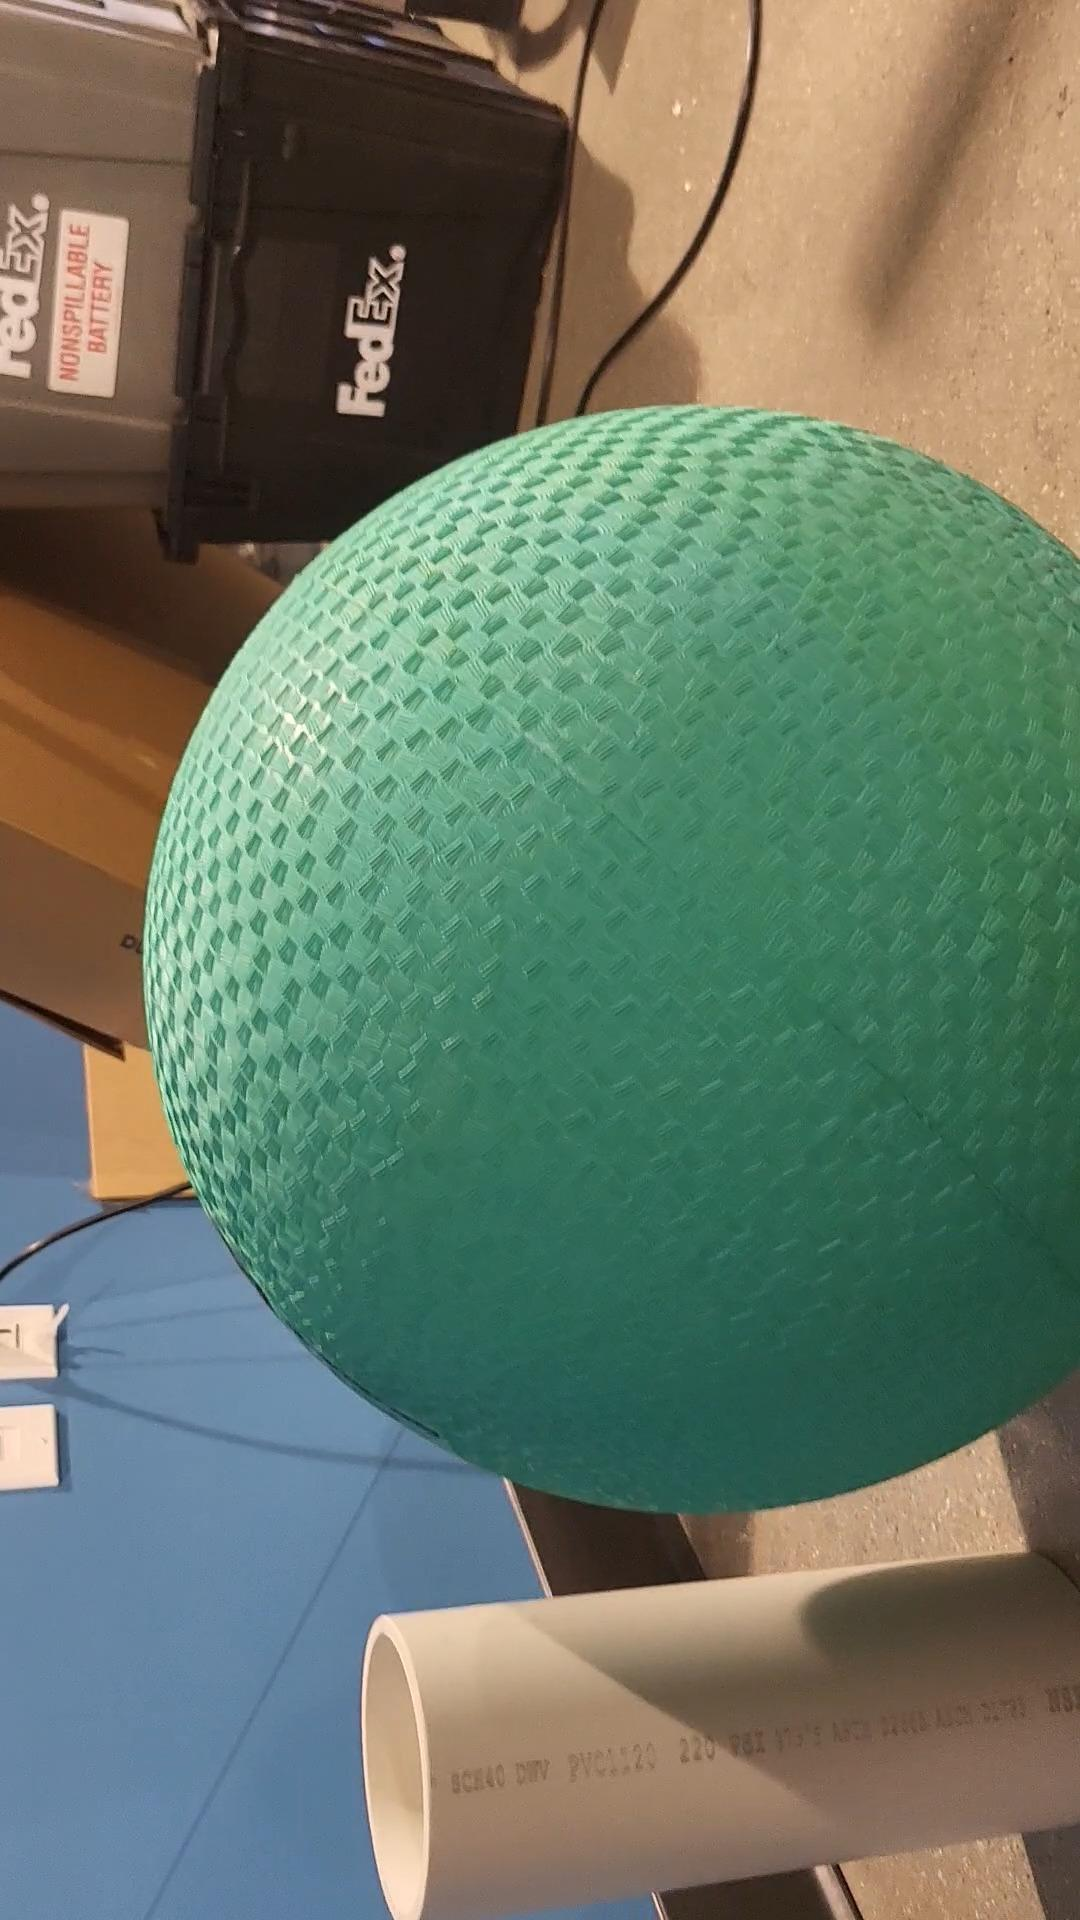algae: (157, 388, 1080, 1503)
coral: (349, 1540, 1080, 1920)
